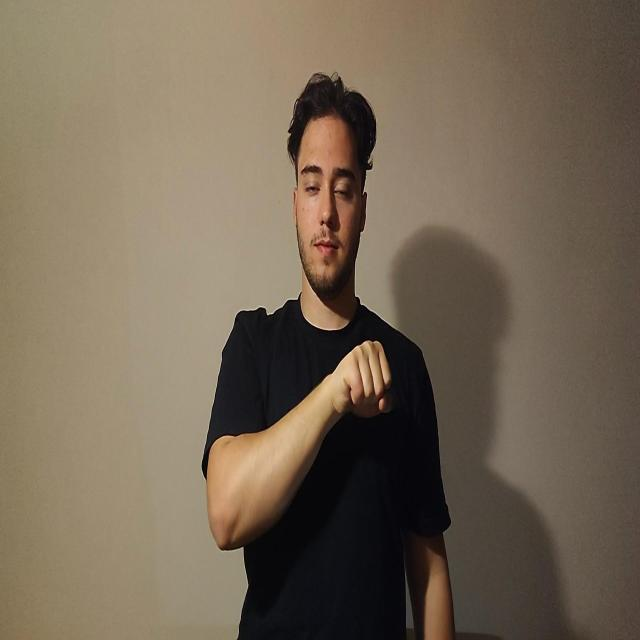yes: (330, 338, 395, 419)
